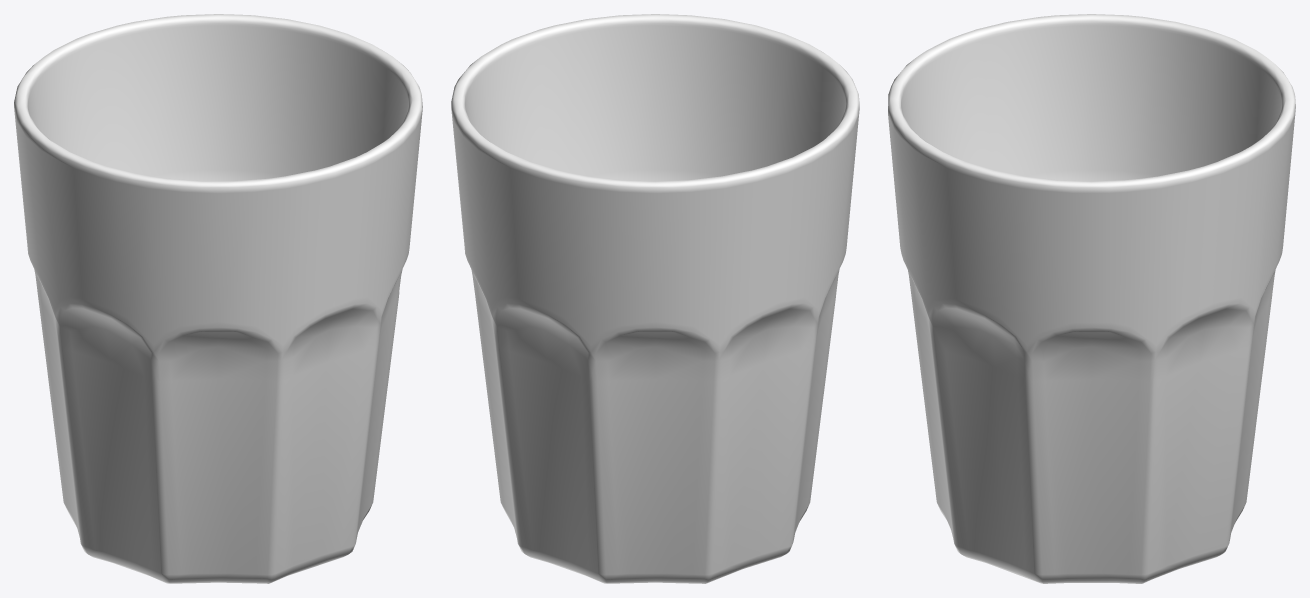
Rendered from POKAL Verre, verre transparent, 27 cl.glb.
3 views of the same model, side by side, from view 1: azimuth 30°, elevation 25°; view 2: azimuth 150°, elevation 25°; view 3: azimuth 270°, elevation 25° (orthographic).
Parts seen in each view (by area): view 1: ASY_ART_80621816_S01_NV01; view 2: ASY_ART_80621816_S01_NV01; view 3: ASY_ART_80621816_S01_NV01.
Boxes of the visible parts, bbox=[...] form: ASY_ART_80621816_S01_NV01: bbox=[14, 14, 422, 583]; ASY_ART_80621816_S01_NV01: bbox=[451, 14, 859, 583]; ASY_ART_80621816_S01_NV01: bbox=[888, 14, 1295, 583].
Size of the model in its own units: 0.0845 by 0.098 by 0.0845.
1 material, 1 textured.
